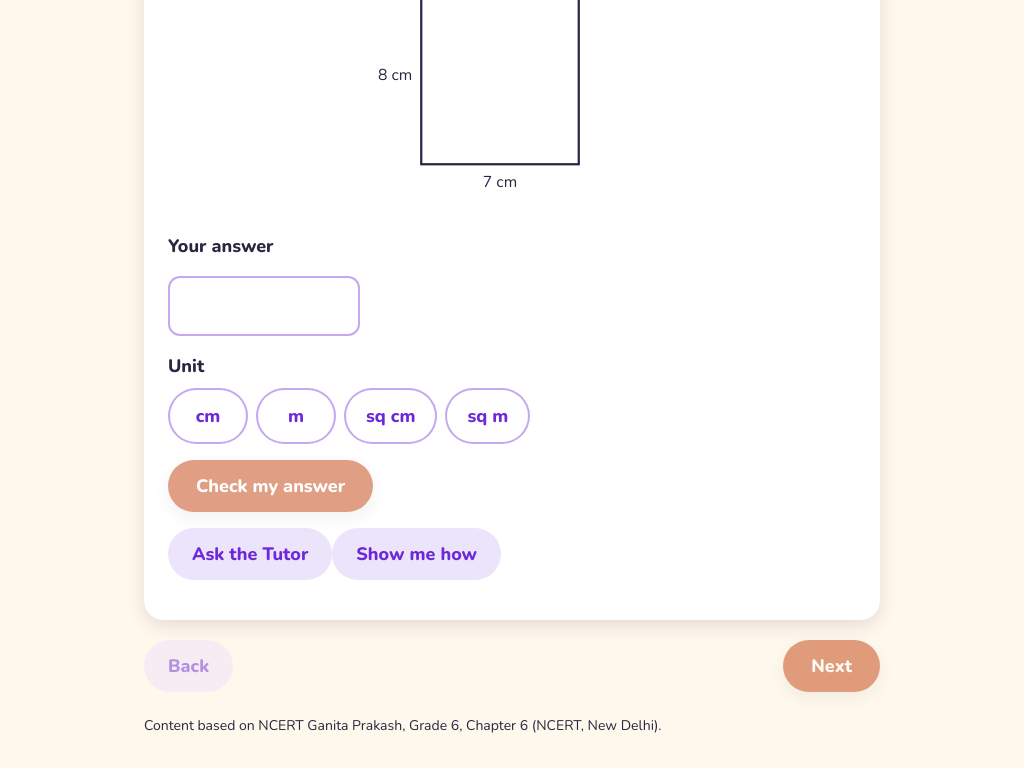
Tutor gates and navigation › offers "Ask the Tutor" after a reload with enough misses and only starts when asked
(page scrolled)
Check: the button "Show me how" is shown, box 332,528 -> 501,580
Check: the text "☁️ Tutor" is not shown
Click the button "Ask the Tutor" at coordinates (250, 554), box 168,528 -> 332,580
(page scrolled)
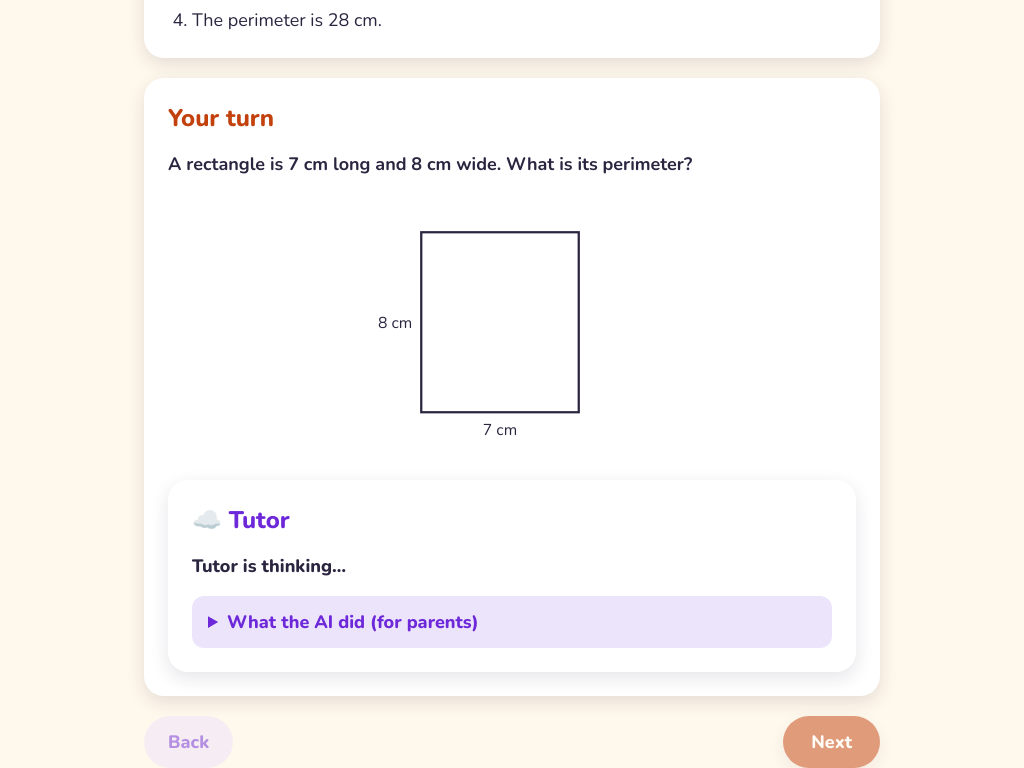
Check: the heading "☁️ Tutor" is shown, box 192,504 -> 290,536
Check: the button "Ask the Tutor" is gone
